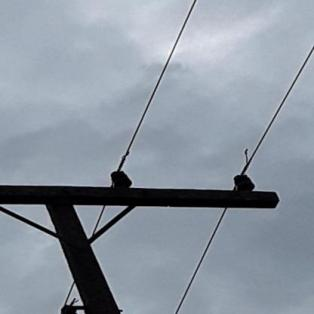Poste: (29, 175, 264, 314)
